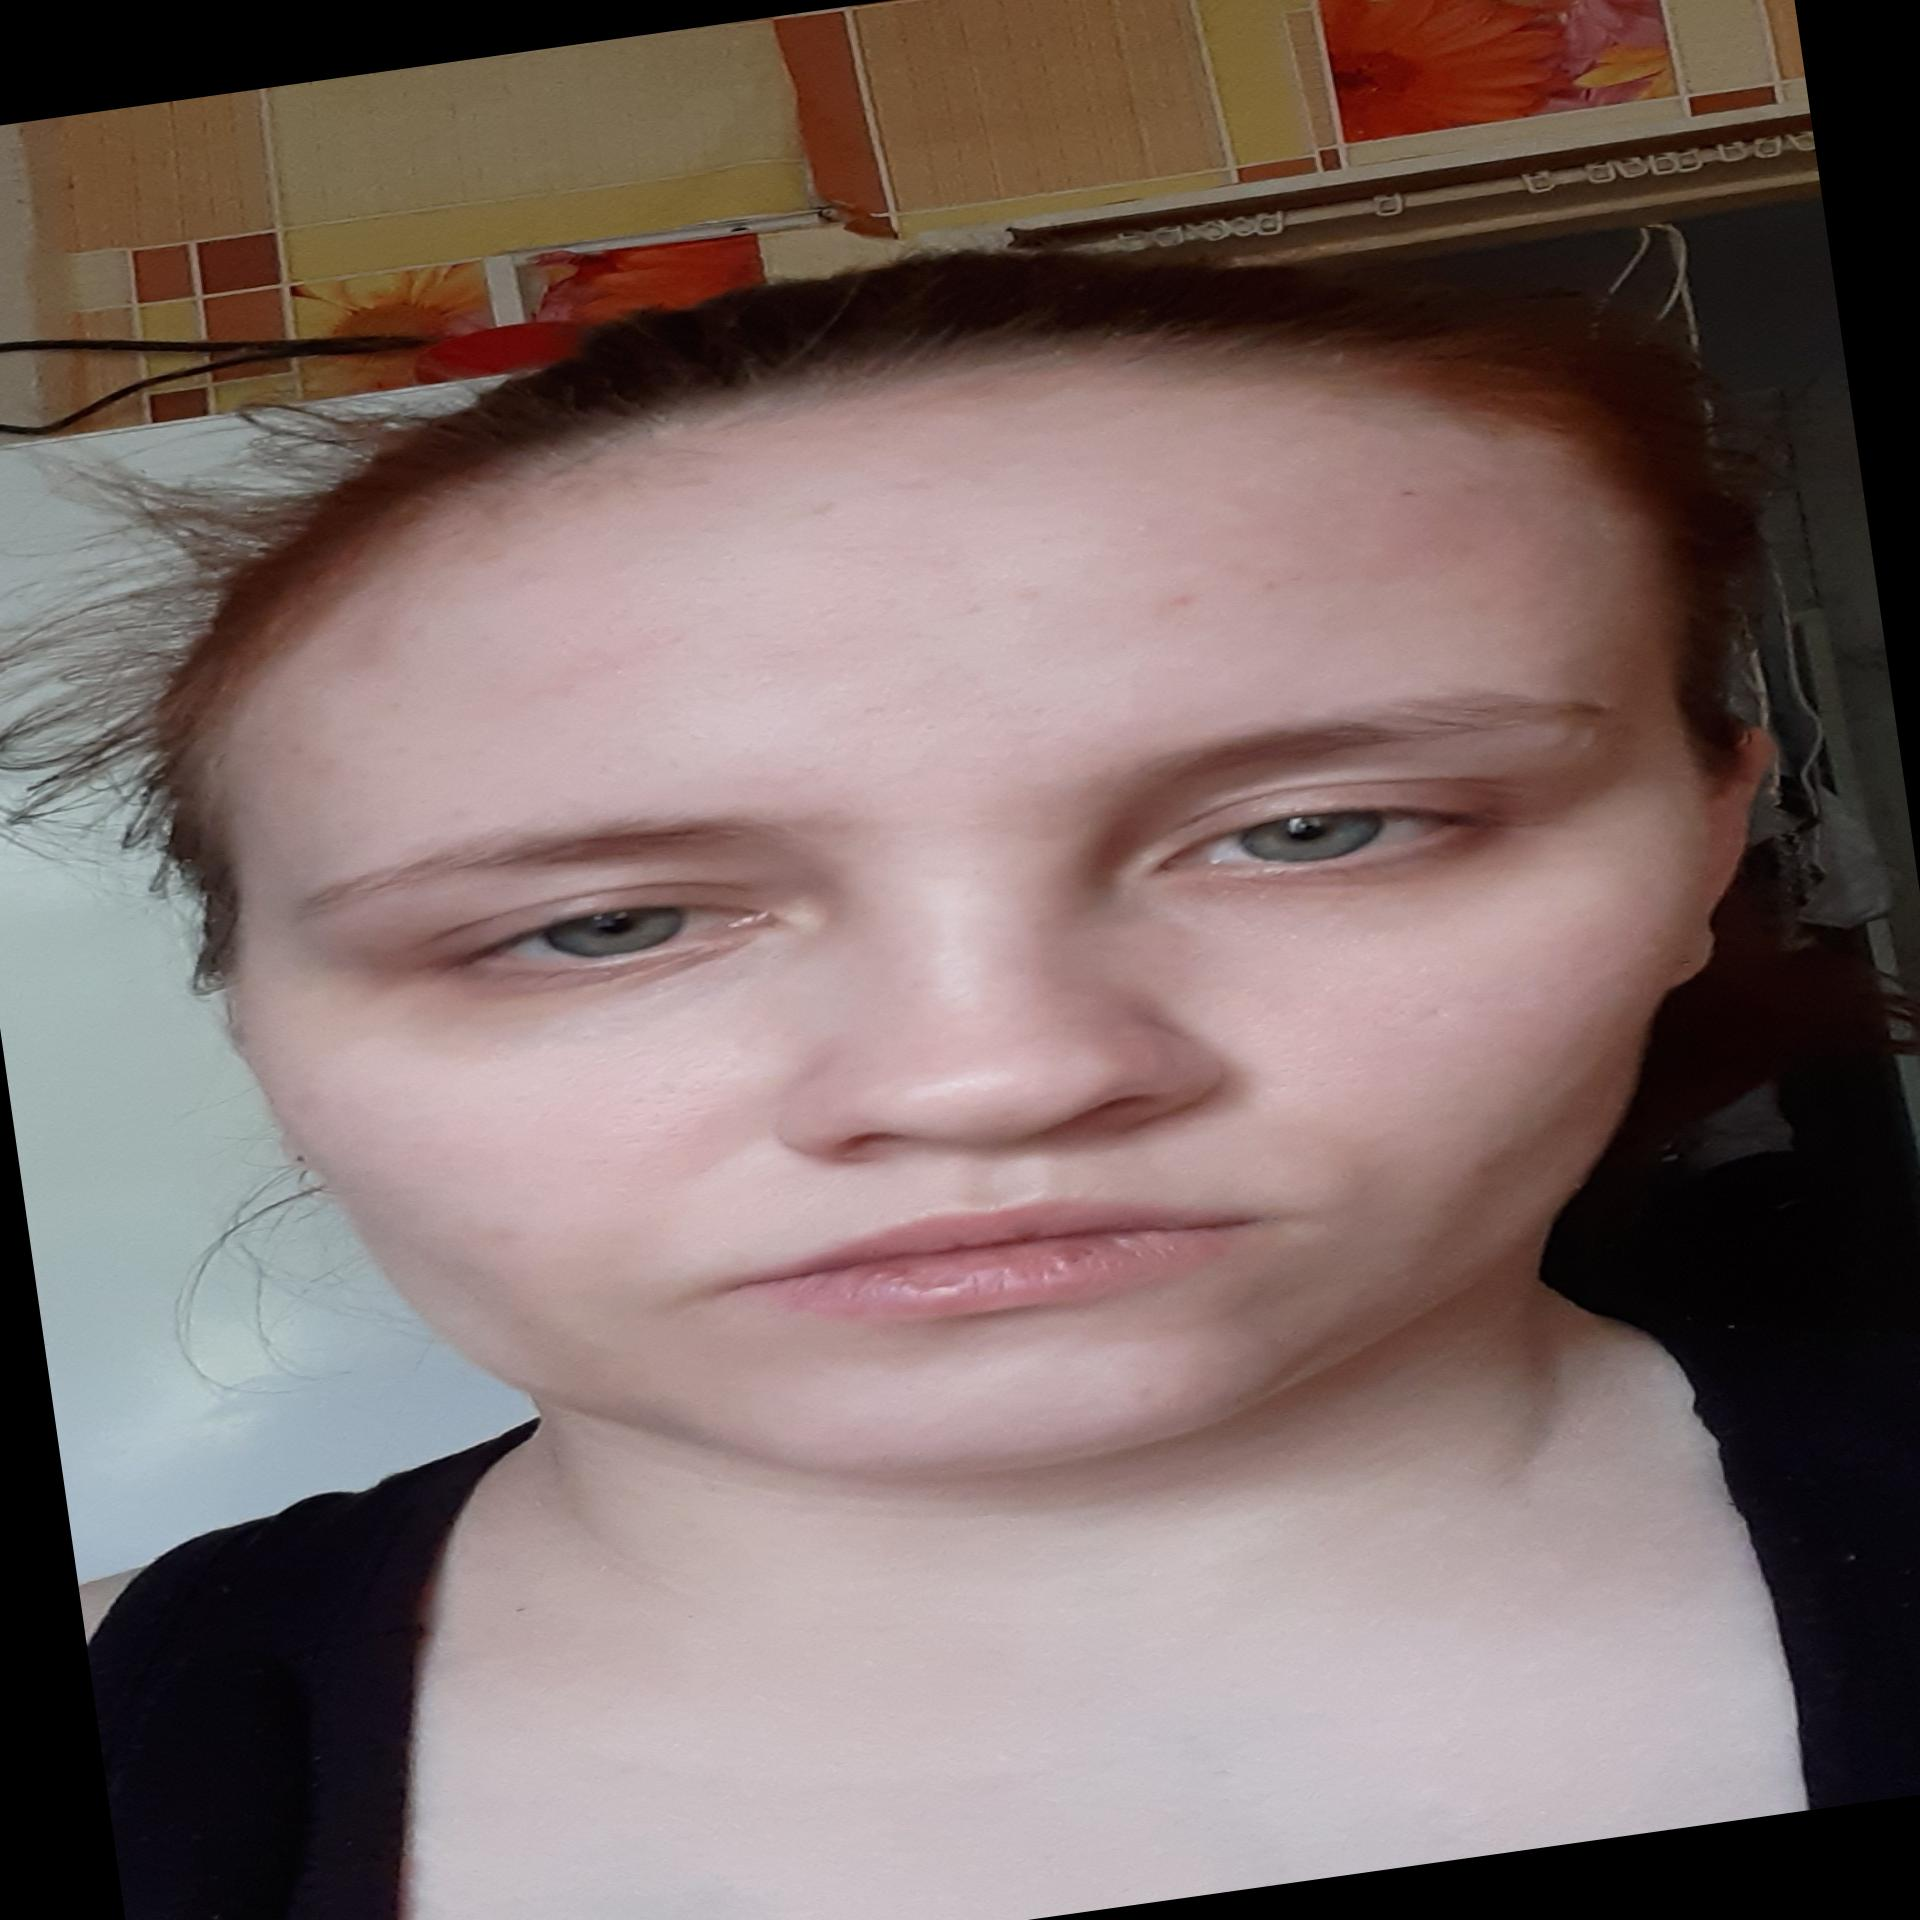Acne: (338, 614, 408, 666), (476, 1215, 538, 1248), (1004, 580, 1057, 608), (1155, 591, 1201, 617), (1252, 571, 1291, 596)
Englarged Pores: (1225, 962, 1449, 1095), (591, 1050, 754, 1173)
